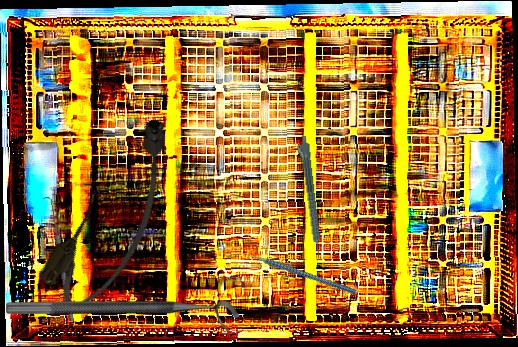Cannula: (31, 107, 202, 322)
Chopper: (230, 216, 357, 331)
Fixation Ring: (6, 300, 240, 334)
Handpiece: (294, 135, 324, 259)
Hook Surgical: (42, 195, 76, 323)
